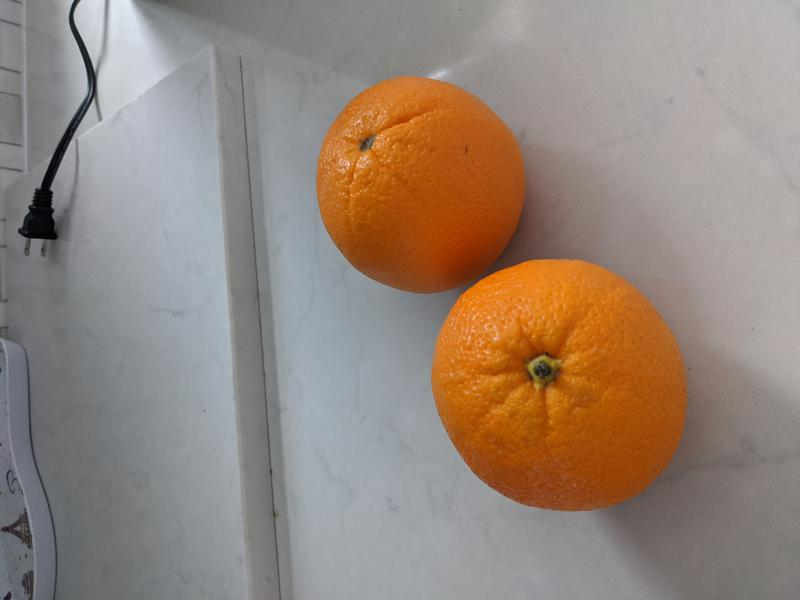orange: (431, 259, 689, 512), (315, 76, 527, 294)
